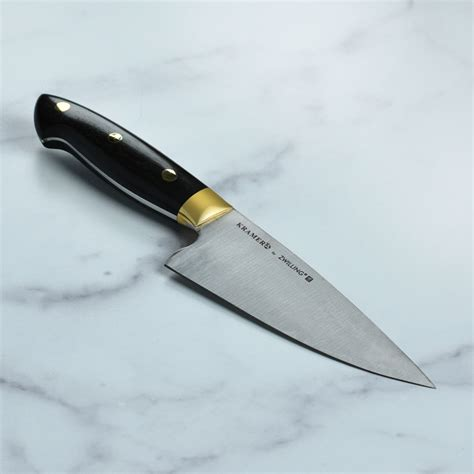knife: (34, 92, 437, 389)
